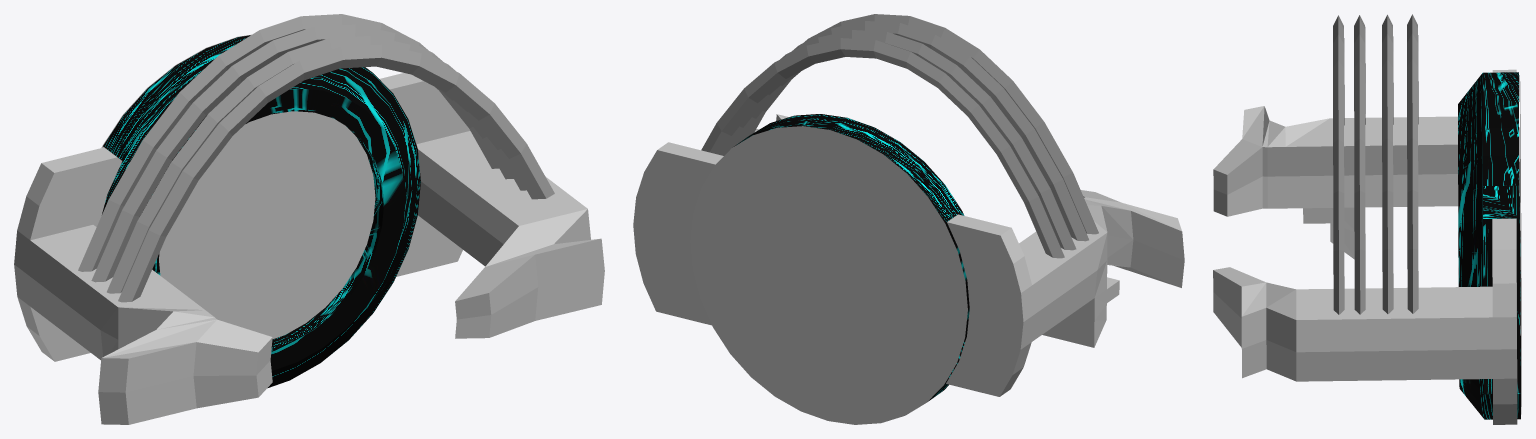
The model's file is Portail.obj.
The picture shows the model from 3 angles, left to right: view 1: azimuth 30°, elevation 25°; view 2: azimuth 150°, elevation 25°; view 3: azimuth 270°, elevation 25°; orthographic projection. The views are drawn at different scales.
Parts seen in each view (by area): view 1: Cylinder.002, BezierCurve_Mesh, Cylinder_Cylinder.001, Cylinder.004, Cylinder.001_Cylinder.000, Cylinder.003; view 2: Cylinder.003, Cylinder_Cylinder.001, BezierCurve_Mesh, Cylinder.004, Cylinder.001_Cylinder.000; view 3: Cylinder.004, Cylinder_Cylinder.001, BezierCurve_Mesh, Cylinder.001_Cylinder.000, Cylinder.003.
Part boxes in pixels (box(x1,y1,x2,y2)): Cylinder.002: box(159, 111, 375, 339); BezierCurve_Mesh: box(78, 14, 554, 302); Cylinder_Cylinder.001: box(14, 147, 272, 424); Cylinder.004: box(379, 73, 604, 338); Cylinder.001_Cylinder.000: box(102, 35, 420, 388); Cylinder.003: box(93, 34, 251, 226); Cylinder.003: box(690, 126, 967, 424); Cylinder_Cylinder.001: box(946, 190, 1184, 396); BezierCurve_Mesh: box(701, 14, 1098, 258); Cylinder.004: box(633, 114, 788, 325); Cylinder.001_Cylinder.000: box(734, 114, 969, 401); Cylinder.004: box(1213, 218, 1517, 424); Cylinder_Cylinder.001: box(1213, 69, 1516, 259); BezierCurve_Mesh: box(1333, 14, 1418, 314); Cylinder.001_Cylinder.000: box(1458, 72, 1520, 419); Cylinder.003: box(1520, 81, 1521, 414).
Size of the model in its own units: 48.69 by 36.76 by 27.63.
